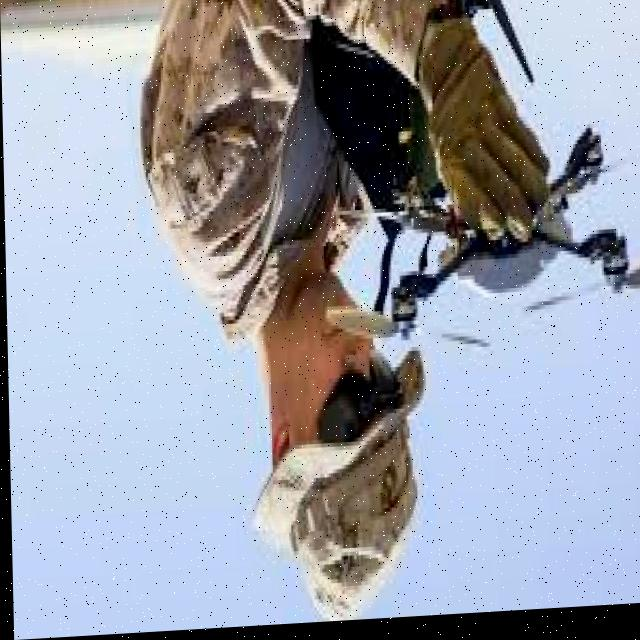drone: (319, 118, 640, 366)
